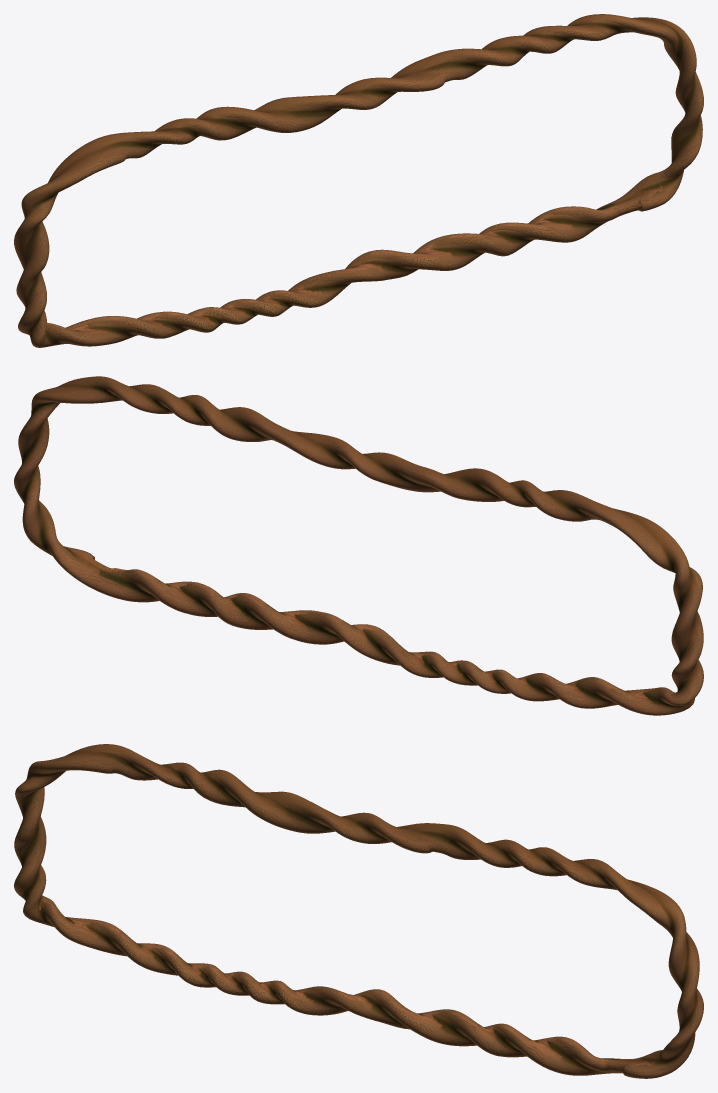
The model's file is rope-hd.glb.
3 views of the same model, one above another, from view 1: azimuth 30°, elevation 25°; view 2: azimuth 150°, elevation 25°; view 3: azimuth 330°, elevation 25° (orthographic).
Bounding box in the file's own units: 1.9 × 0.5802 × 0.1012.
1 material, 1 textured.
